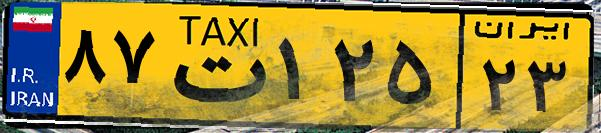1: (270, 28, 330, 110)
2: (330, 28, 385, 110), (475, 38, 525, 113)
3: (525, 38, 570, 115)
5: (385, 28, 445, 110)
7: (110, 28, 158, 98)
8: (57, 26, 110, 100)
ت: (158, 12, 270, 120)
